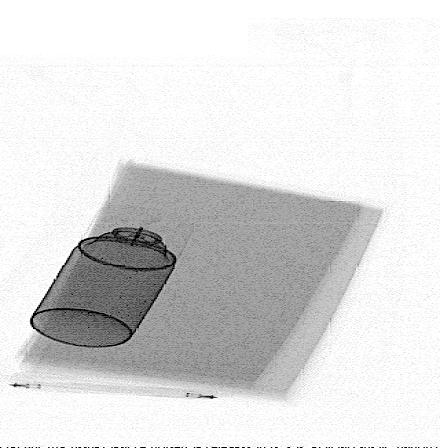Sprayer: (27, 204, 198, 350)
